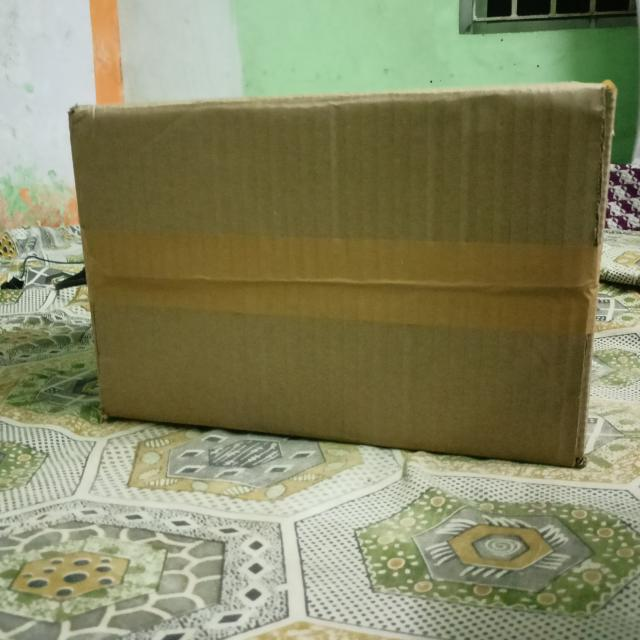box: (71, 81, 613, 466)
